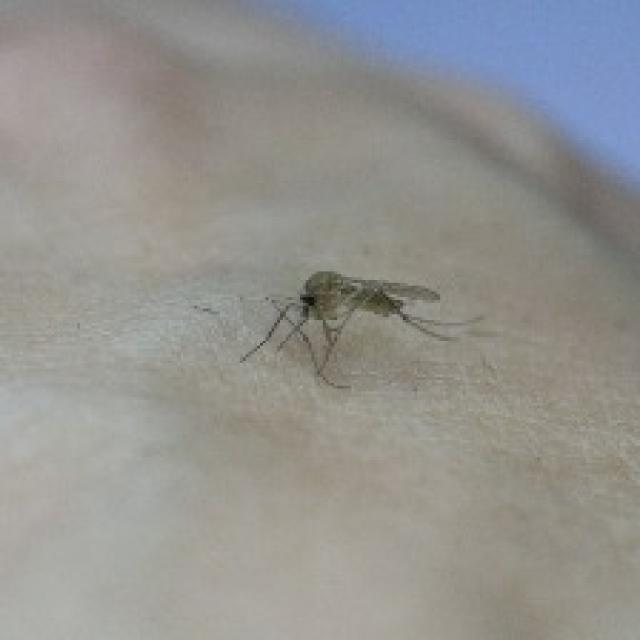culex: (200, 266, 483, 388)
